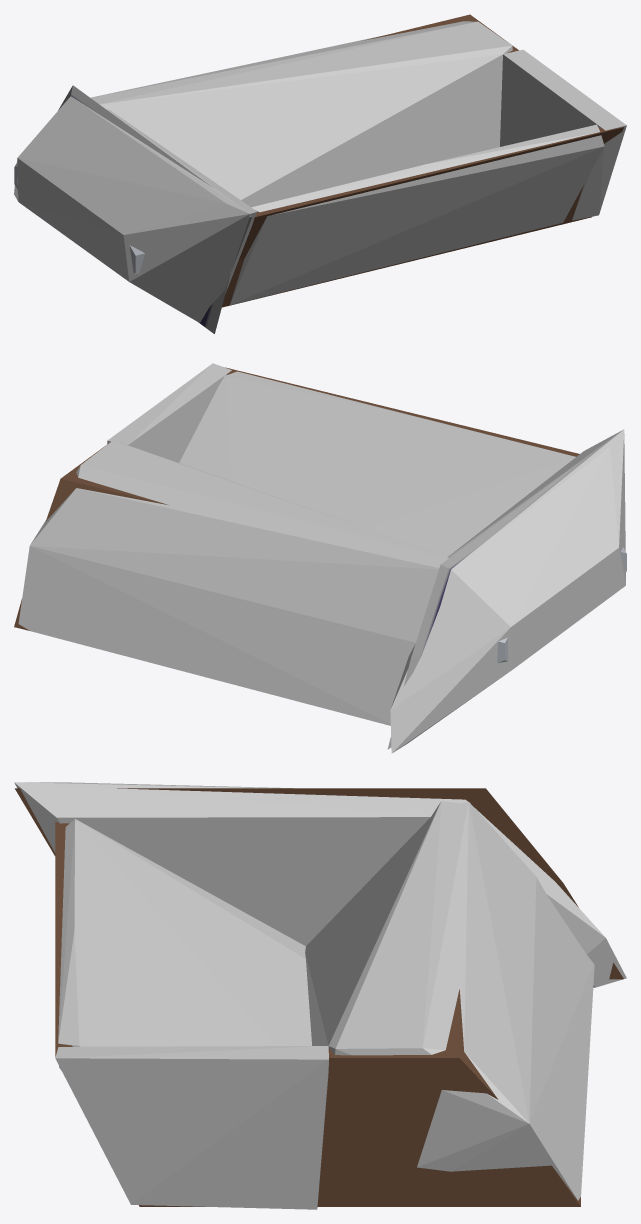
Rendered from SM_Prop_Desk_01_Drawer_l_02.fbx.
3 renders of one model, top to bottom at view 1: azimuth 30°, elevation 25°; view 2: azimuth 150°, elevation 25°; view 3: azimuth 270°, elevation 25°, orthographic. The views are drawn at different scales.
Visible parts, largest first — view 1: SM_Prop_Desk_01_Drawer_l_02_ConvexHulls, SM_Prop_Desk_01_Drawer_l_02; view 2: SM_Prop_Desk_01_Drawer_l_02_ConvexHulls, SM_Prop_Desk_01_Drawer_l_02; view 3: SM_Prop_Desk_01_Drawer_l_02_ConvexHulls, SM_Prop_Desk_01_Drawer_l_02.
Boxes of the visible parts, x1=… form: SM_Prop_Desk_01_Drawer_l_02_ConvexHulls: x1=14, y1=21, x2=626, y2=322; SM_Prop_Desk_01_Drawer_l_02: x1=14, y1=14, x2=623, y2=333; SM_Prop_Desk_01_Drawer_l_02_ConvexHulls: x1=18, y1=363, x2=625, y2=753; SM_Prop_Desk_01_Drawer_l_02: x1=14, y1=367, x2=626, y2=749; SM_Prop_Desk_01_Drawer_l_02_ConvexHulls: x1=14, y1=782, x2=626, y2=1209; SM_Prop_Desk_01_Drawer_l_02: x1=15, y1=788, x2=623, y2=1206.
Size of the model in its own units: 60.98 by 54.2 by 19.66.
Materials: 2 (1 with a texture image).
